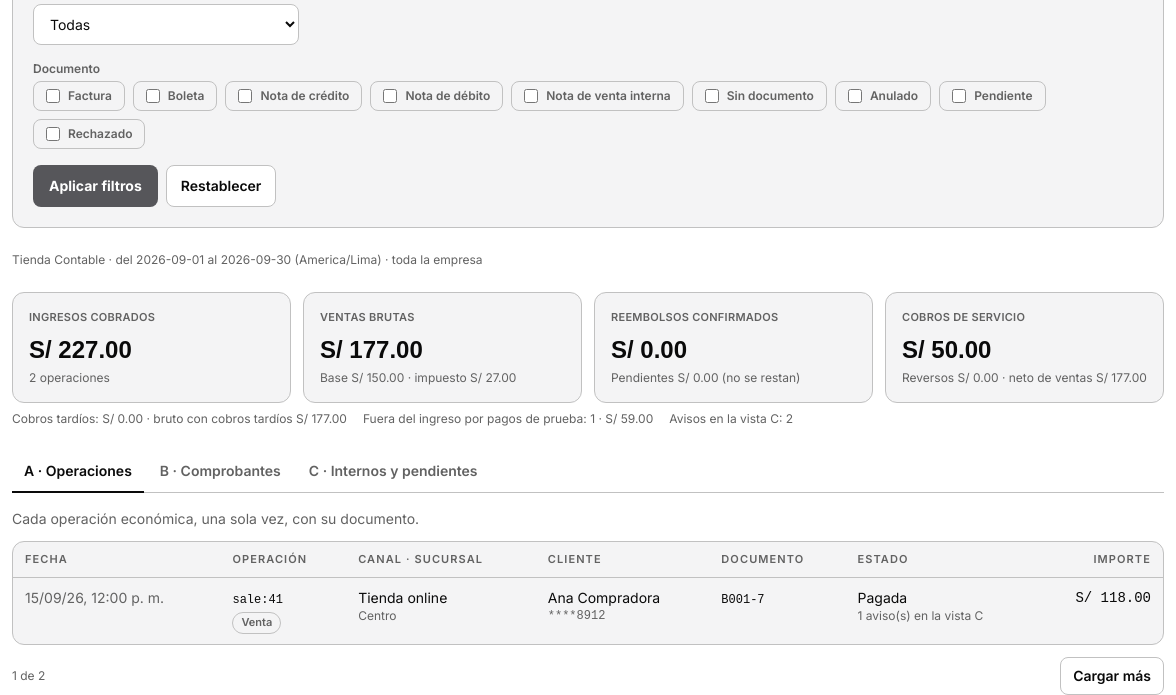
Test: errors and paging › appends the next page
(page scrolled)
Expected: the link "sale:41" is shown, [232,593,283,607]
Click the button "Cargar más": (1112, 676) [1060,657,1164,694]
(page scrolled)
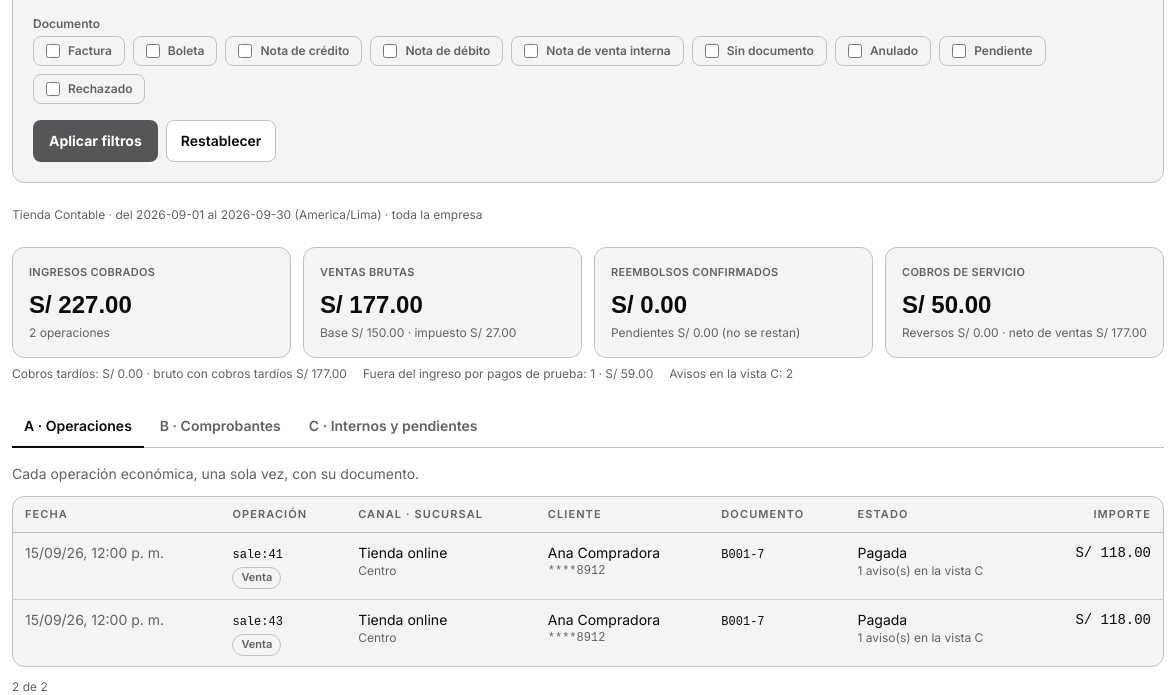
Expected: the link "sale:41" is shown, [232,548,283,562]
Expected: the link "sale:43" is shown, [232,615,283,629]
Expected: the text "2 de 2" is shown, [12,679,48,694]
